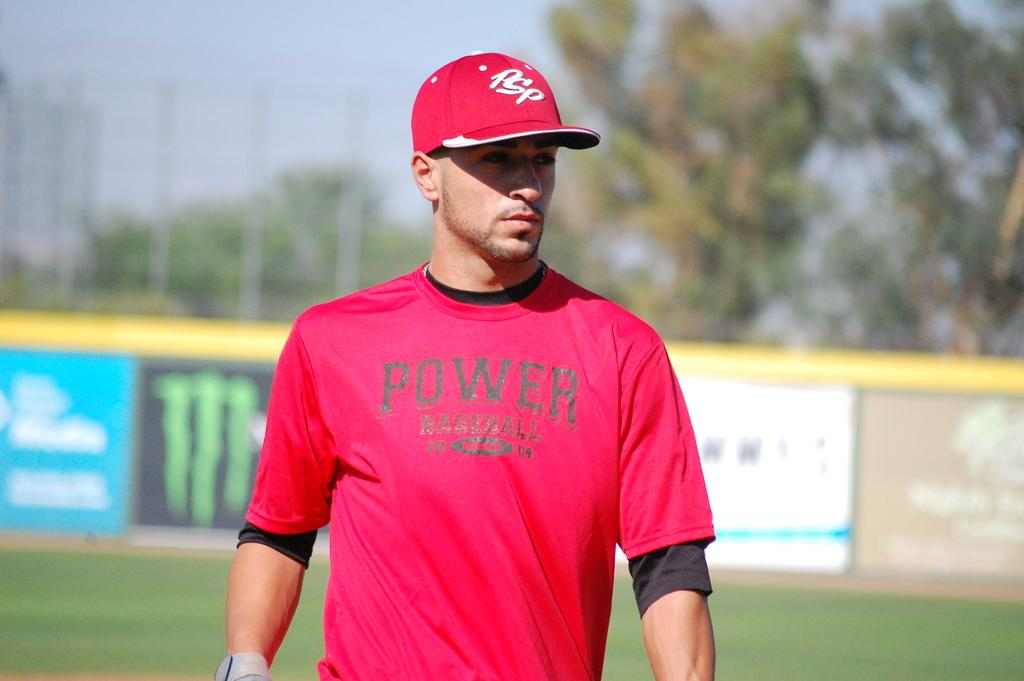Hat: (409, 45, 600, 153)
